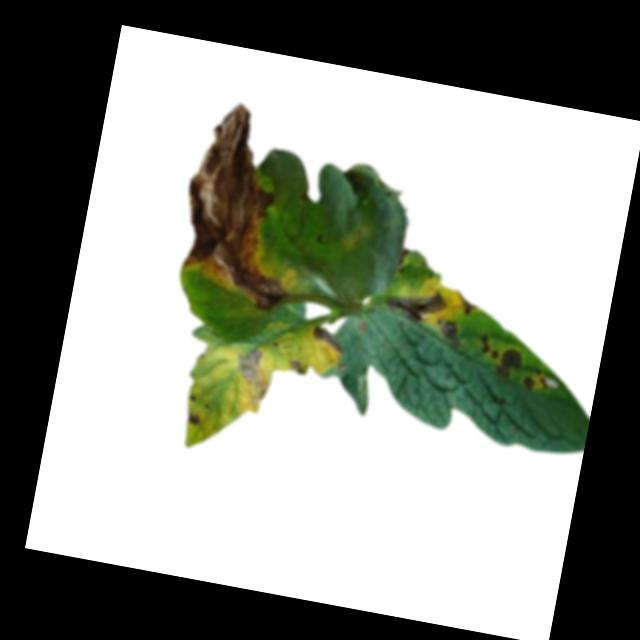Early_blight: (170, 96, 317, 310), (382, 282, 450, 327), (230, 345, 273, 403), (308, 322, 347, 355), (434, 316, 467, 348), (495, 346, 524, 378), (453, 288, 479, 318), (521, 369, 551, 394), (478, 332, 501, 359), (284, 353, 311, 376), (186, 407, 202, 425)
